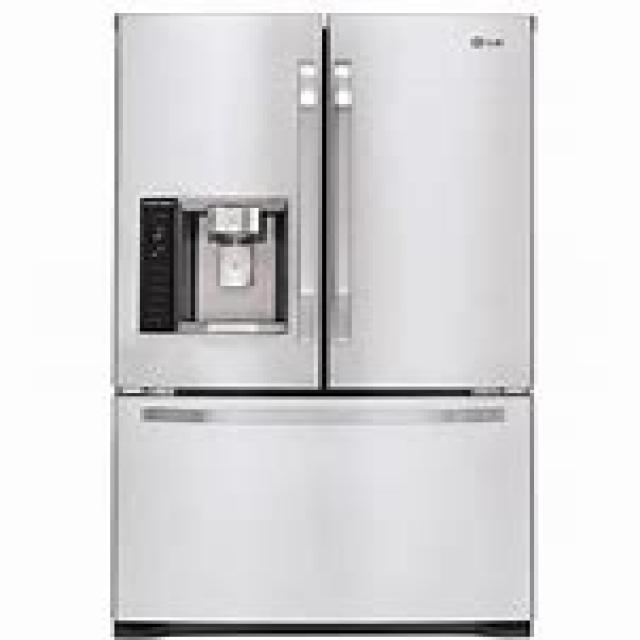fridge: (110, 9, 534, 636)
